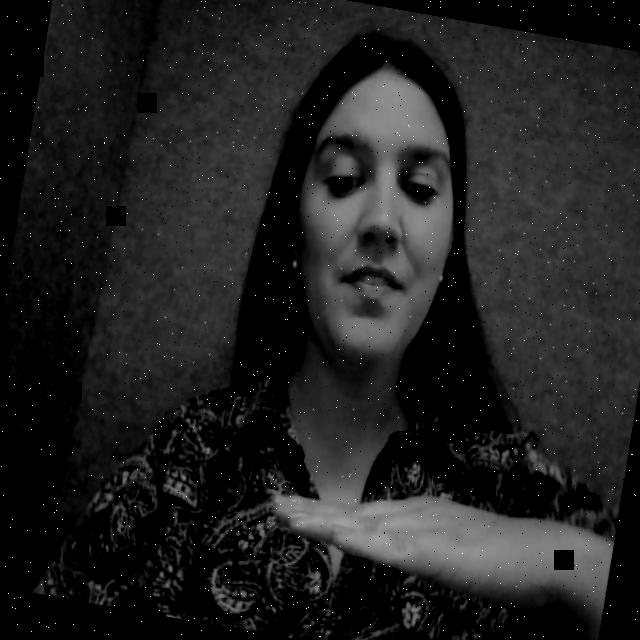Paper: (237, 439, 583, 640)
